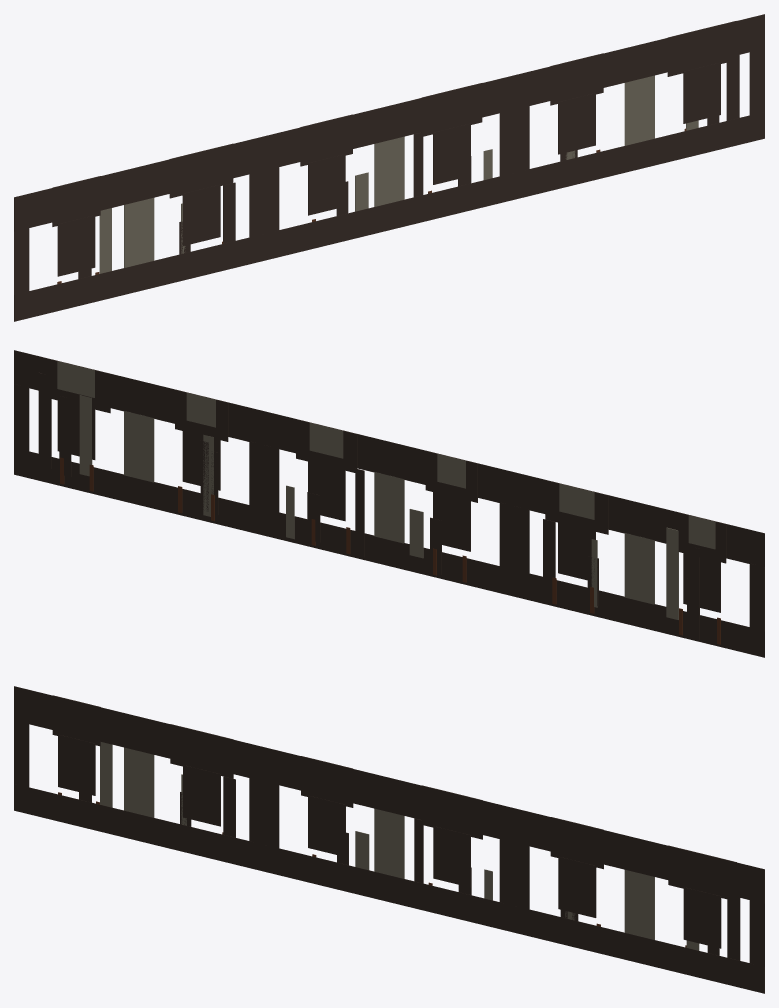
File: burnt_floor_overlay.glb
3 views of the same model, one above another, from view 1: azimuth 30°, elevation 25°; view 2: azimuth 150°, elevation 25°; view 3: azimuth 330°, elevation 25° (orthographic).
Parts seen in each view (by area): view 1: burnt_floor_overlay; view 2: burnt_floor_overlay; view 3: burnt_floor_overlay.
Part boxes in pixels (bbox=[...]): burnt_floor_overlay: bbox=[14, 14, 764, 321]; burnt_floor_overlay: bbox=[14, 350, 764, 657]; burnt_floor_overlay: bbox=[14, 686, 764, 993].
Size of the model in its own units: 24 by 3.8 by 0.03.
Materials: 1 (1 with a texture image).
